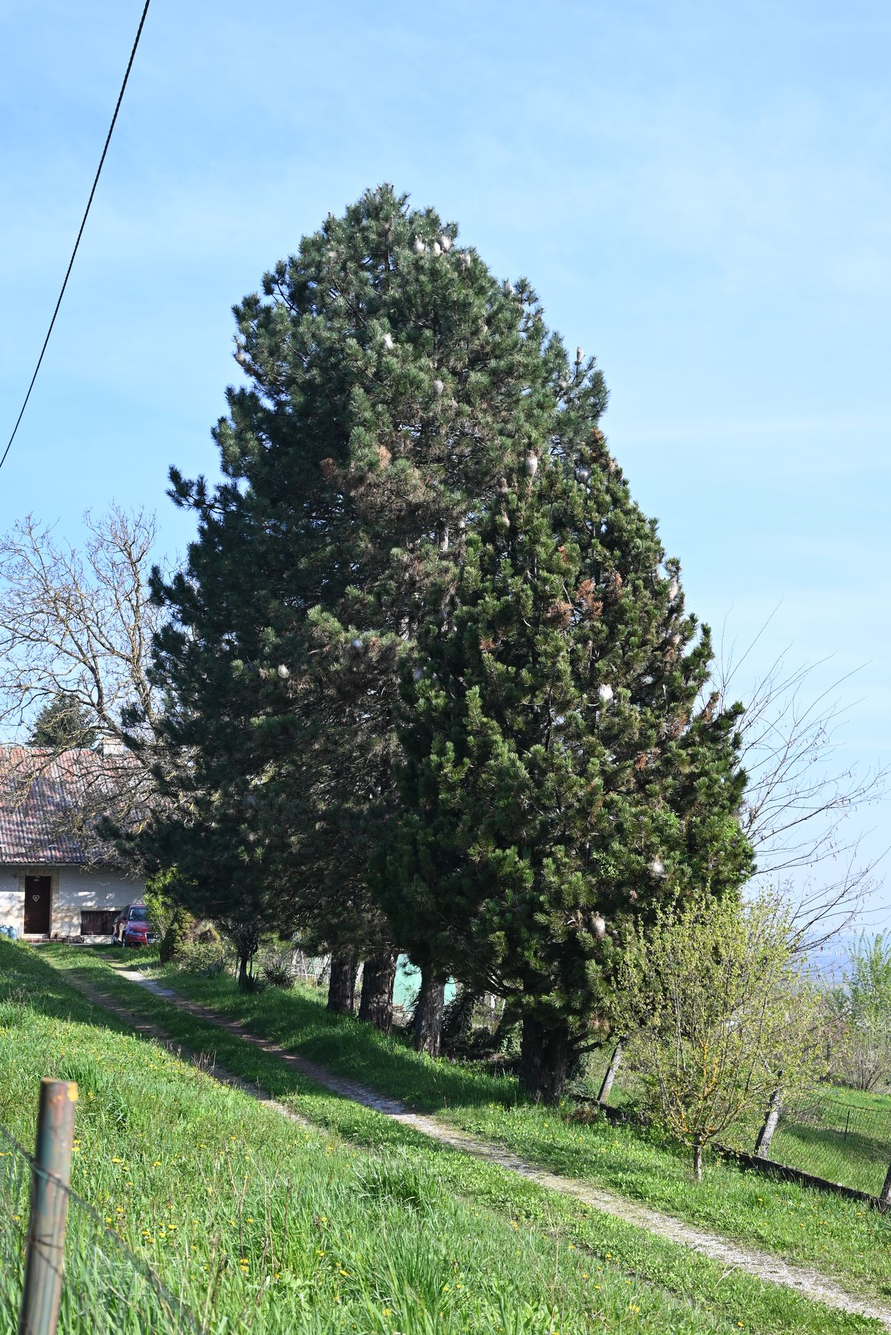thaumatopoea pityocampa jajno gnijezdo: (589, 908, 611, 940), (646, 854, 668, 883), (521, 450, 545, 475), (595, 681, 616, 705), (374, 329, 396, 350), (273, 659, 293, 681), (408, 233, 423, 255), (440, 228, 450, 257), (428, 236, 440, 258)
